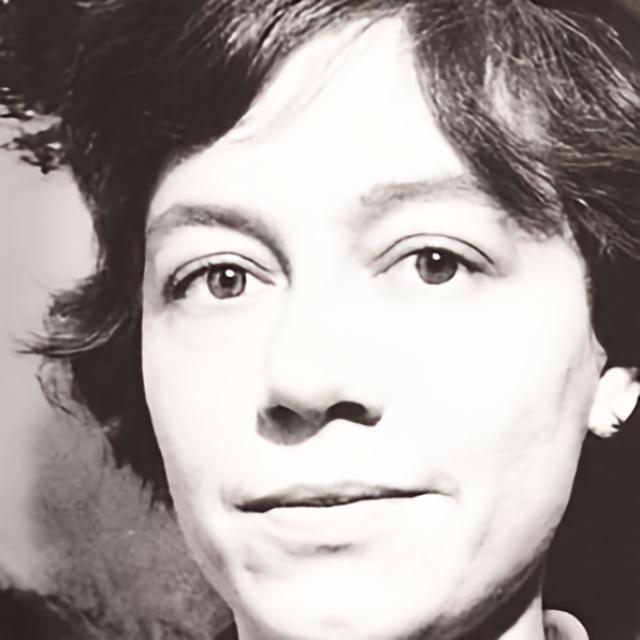content: (138, 1, 592, 640)
